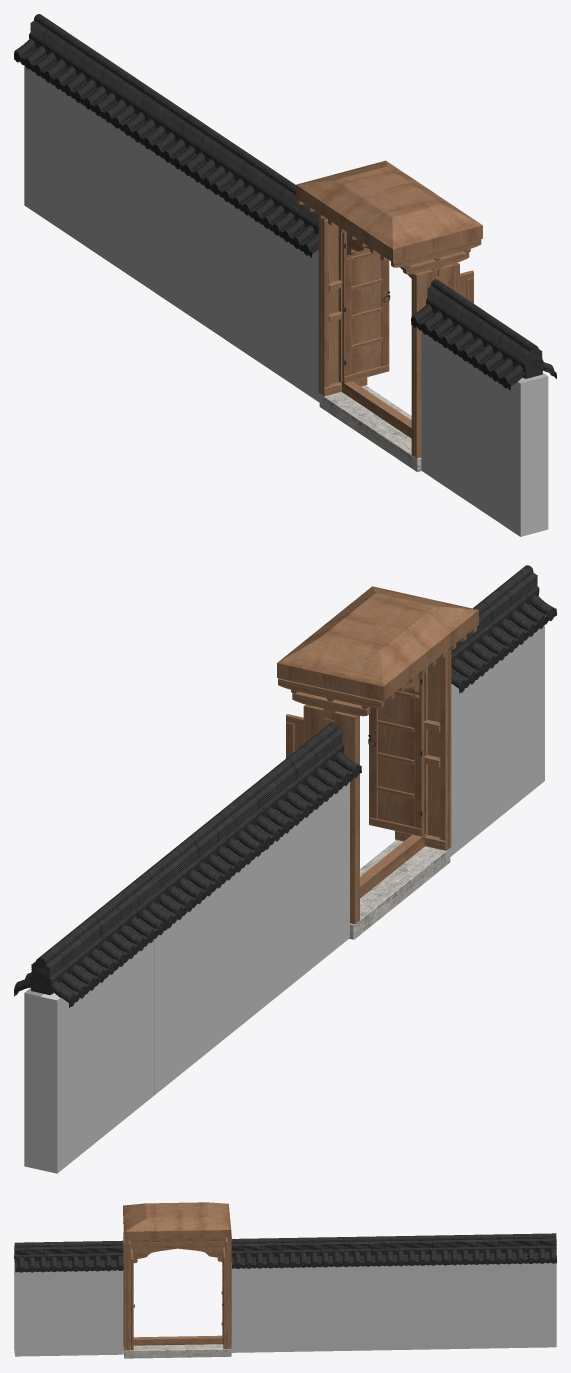
The model's file is SM_HBJ_HG_StoneWallJ_Splines_12.fbx.
The picture shows the model from 3 angles, top to bottom: view 1: azimuth 30°, elevation 25°; view 2: azimuth 150°, elevation 25°; view 3: azimuth 270°, elevation 25°; orthographic projection. The views are drawn at different scales.
Visible parts, largest first — view 1: SM_HBJ_HG_StoneWallJ_Splines_12; view 2: SM_HBJ_HG_StoneWallJ_Splines_12; view 3: SM_HBJ_HG_StoneWallJ_Splines_12.
Part boxes in pixels (x1=…): SM_HBJ_HG_StoneWallJ_Splines_12: x1=14, y1=14, x2=556, y2=536; SM_HBJ_HG_StoneWallJ_Splines_12: x1=14, y1=565, x2=556, y2=1173; SM_HBJ_HG_StoneWallJ_Splines_12: x1=14, y1=1202, x2=556, y2=1358.
Bounding box in the file's own units: 137 × 1096 × 315.
